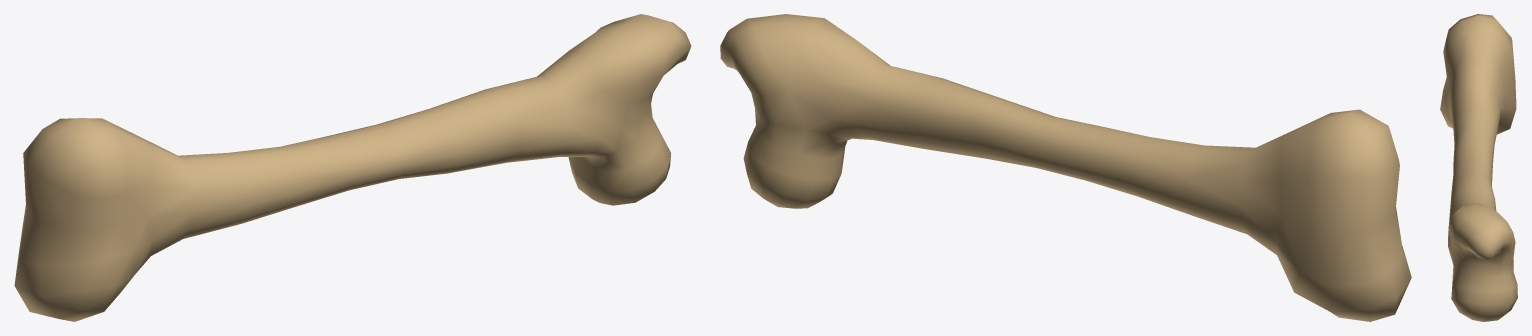
The picture shows the model from 3 angles, left to right: view 1: azimuth 30°, elevation 25°; view 2: azimuth 150°, elevation 25°; view 3: azimuth 270°, elevation 25°; orthographic projection. The views are drawn at different scales.
Parts seen in each view (by area): view 1: Bone_Q; view 2: Bone_Q; view 3: Bone_Q.
Part boxes in pixels (bbox=[...]): Bone_Q: bbox=[14, 14, 691, 321]; Bone_Q: bbox=[720, 14, 1411, 321]; Bone_Q: bbox=[1440, 14, 1517, 321].
Bounding box in the file's own units: 0.2511 × 0.0779 × 0.0402.
